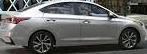Cars: (12, 17, 146, 54)
